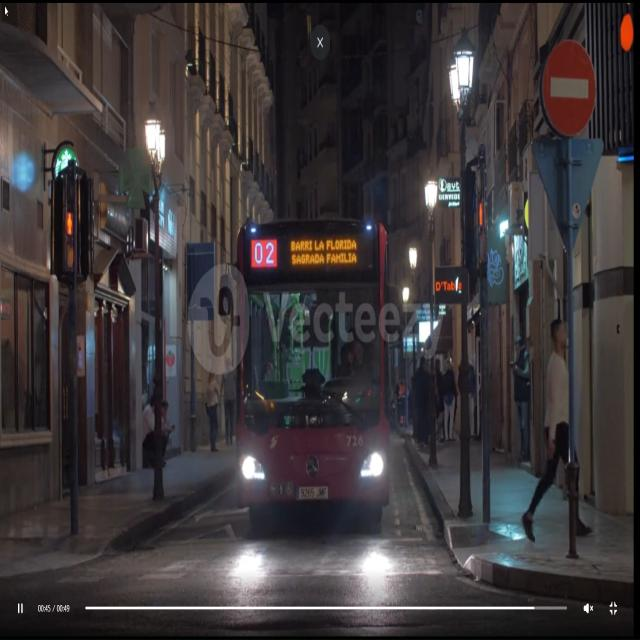pedestrian: (522, 318, 568, 541)
